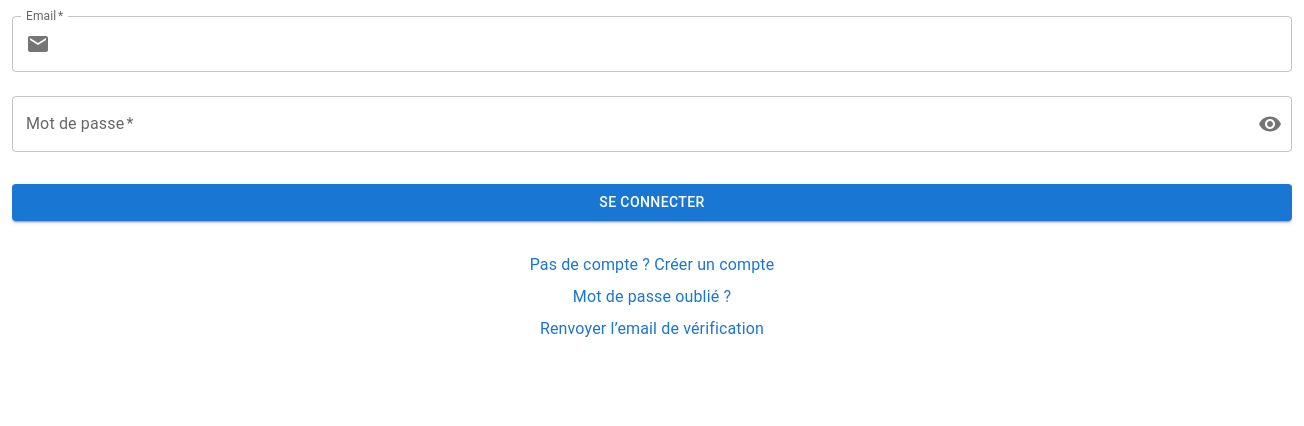
Test: AuthForm › mode login › affiche un message d'erreur en cas d'email invalide (validation Zod)
Type "not-an-email" into the field labelled "Email *".
click(675, 44); type("not-an-email")  # box [58,16,1292,72]
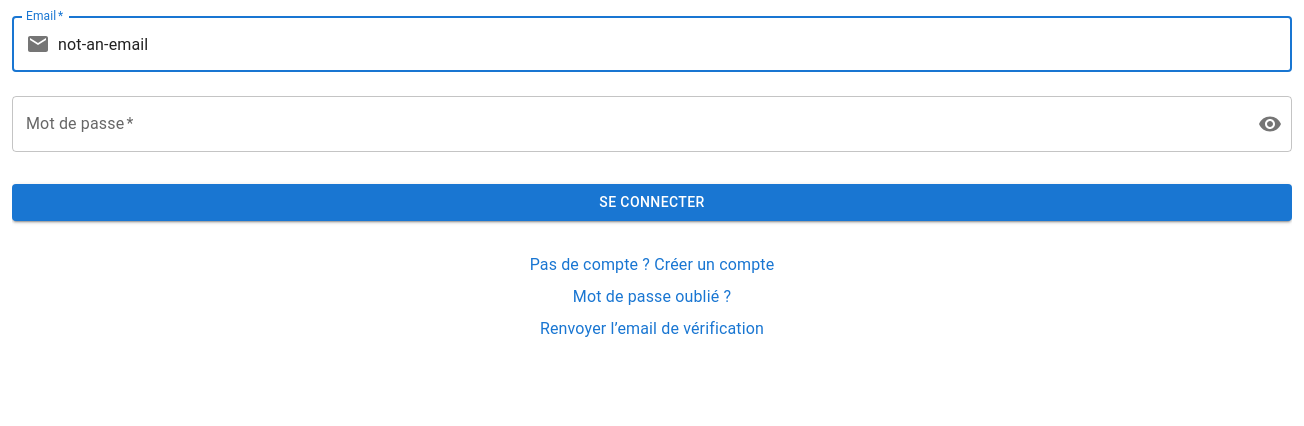
Type "anything" into the password field labelled "Mot de passe *".
click(627, 124); type("anything")  # box [12,96,1242,152]
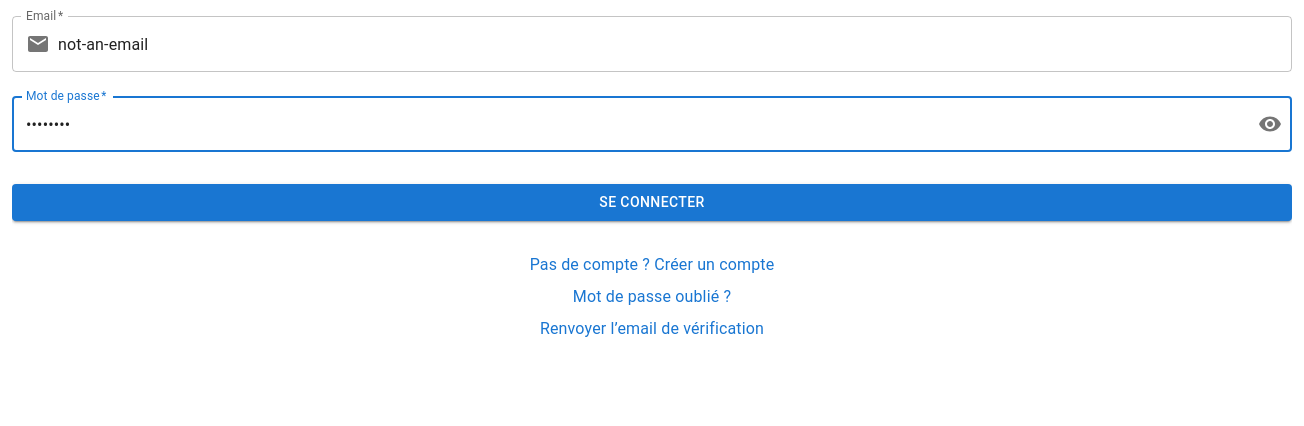
Click the button "Se connecter".
click(652, 202)  # box [12,184,1292,220]
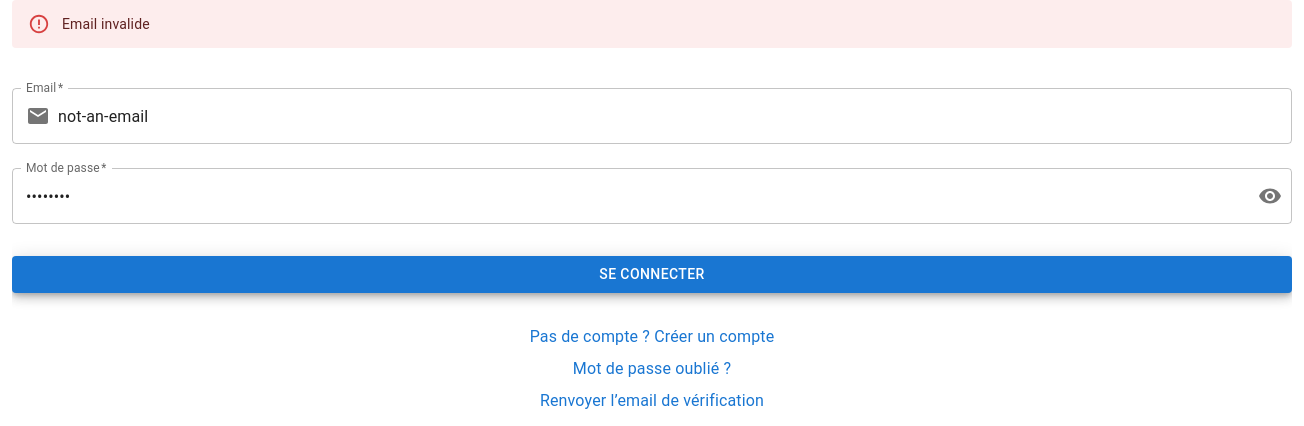
Expected: the text "Email invalide" is shown, [62,16,150,32]
